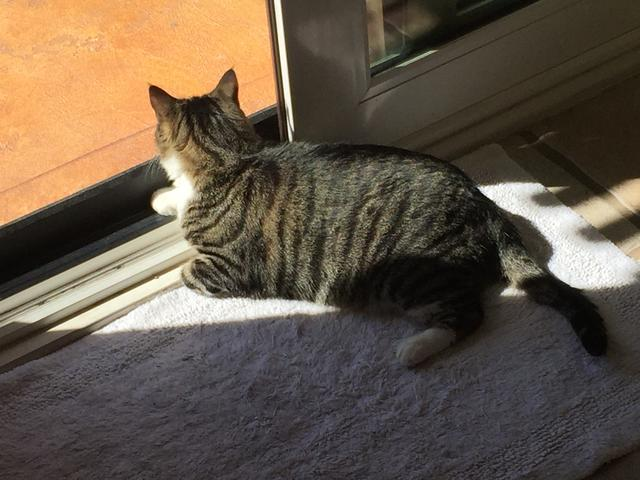playdoh: (138, 65, 612, 374)
